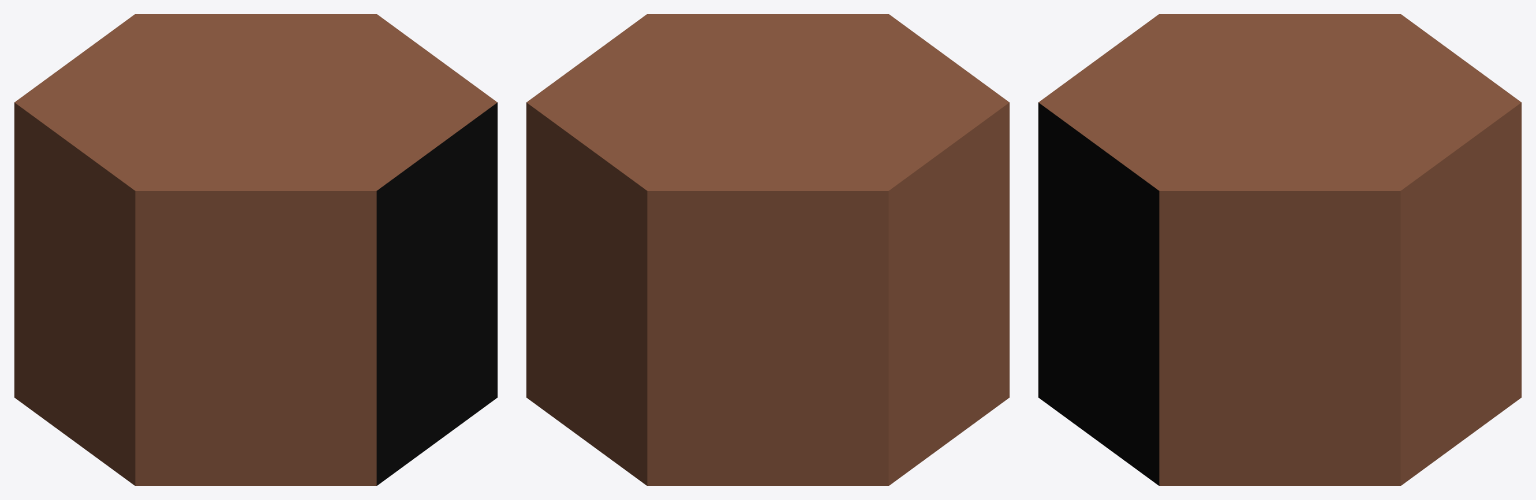
The model's file is spawn_neutral.glb.
The picture shows the model from 3 angles, left to right: view 1: azimuth 30°, elevation 25°; view 2: azimuth 150°, elevation 25°; view 3: azimuth 270°, elevation 25°; orthographic projection.
Parts seen in each view (by area): view 1: SpawnNeutral-col; view 2: SpawnNeutral-col; view 3: SpawnNeutral-col.
Boxes of the visible parts, <box> form: SpawnNeutral-col: <box>14,14,497,485</box>; SpawnNeutral-col: <box>526,14,1009,485</box>; SpawnNeutral-col: <box>1038,14,1521,485</box>.
Size of the model in its own units: 0.6424 by 0.5 by 0.7418.
Materials: 1 (1 with a texture image).
